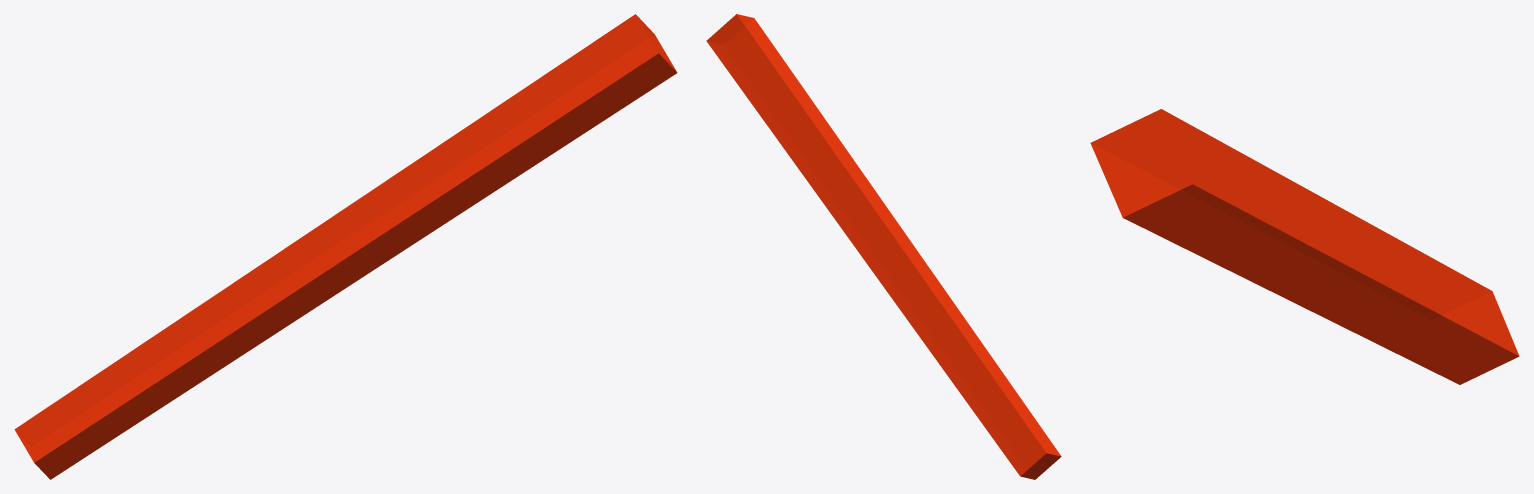
File: Event_421115418_EBrechit_46.fbx
The picture shows the model from 3 angles, left to right: view 1: azimuth 30°, elevation 25°; view 2: azimuth 150°, elevation 25°; view 3: azimuth 270°, elevation 25°; orthographic projection. The views are drawn at different scales.
Parts seen in each view (by area): view 1: Model; view 2: Model; view 3: Model.
Part boxes in pixels (x1,y1,x2,y2): Model: (14, 14, 677, 479); Model: (706, 14, 1061, 479); Model: (1090, 109, 1519, 384).
Bounding box in the file's own units: 0.7859 × 0.5793 × 0.3518.
